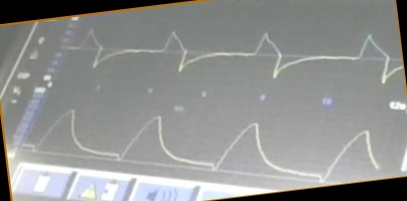Flow: (69, 25, 401, 87)
Leakage Volume: (24, 106, 379, 183)
